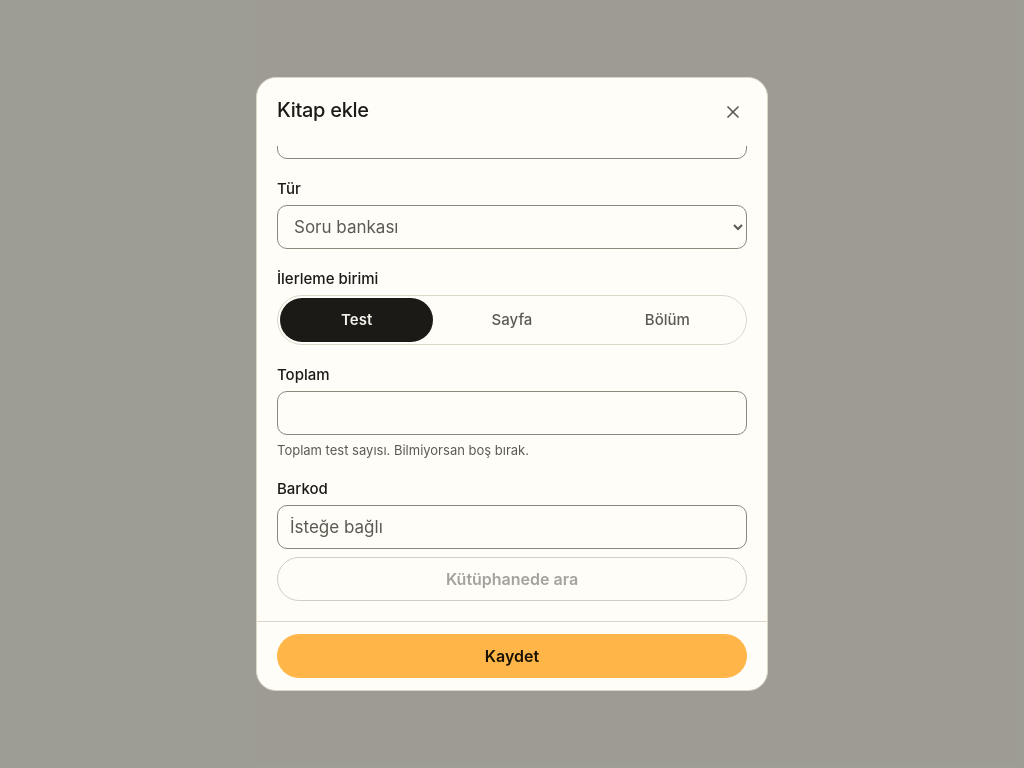
Test: BookFormSheet › barkod › geçersiz barkodda alan hatası gösterir
(page scrolled)
Type "9781234567890" into the field labelled "Barkod" at {"x": 512, "y": 527}, box [277,505,747,549]
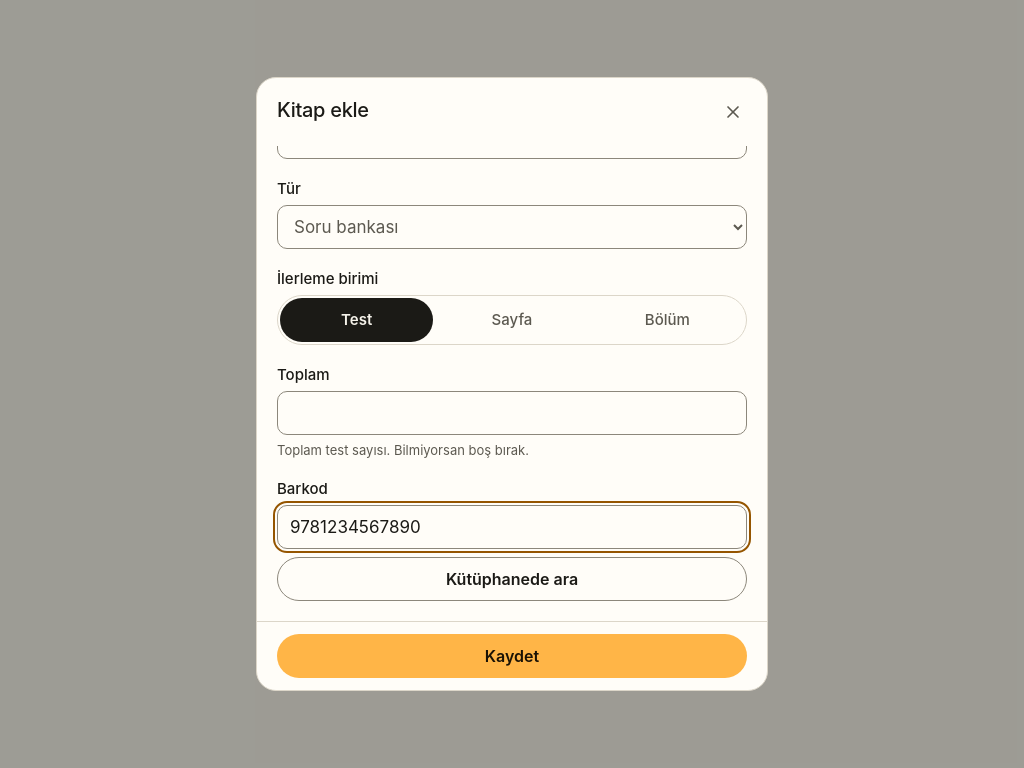
Click the button "Kütüphanede ara" at {"x": 512, "y": 579}, box [277,557,747,601]
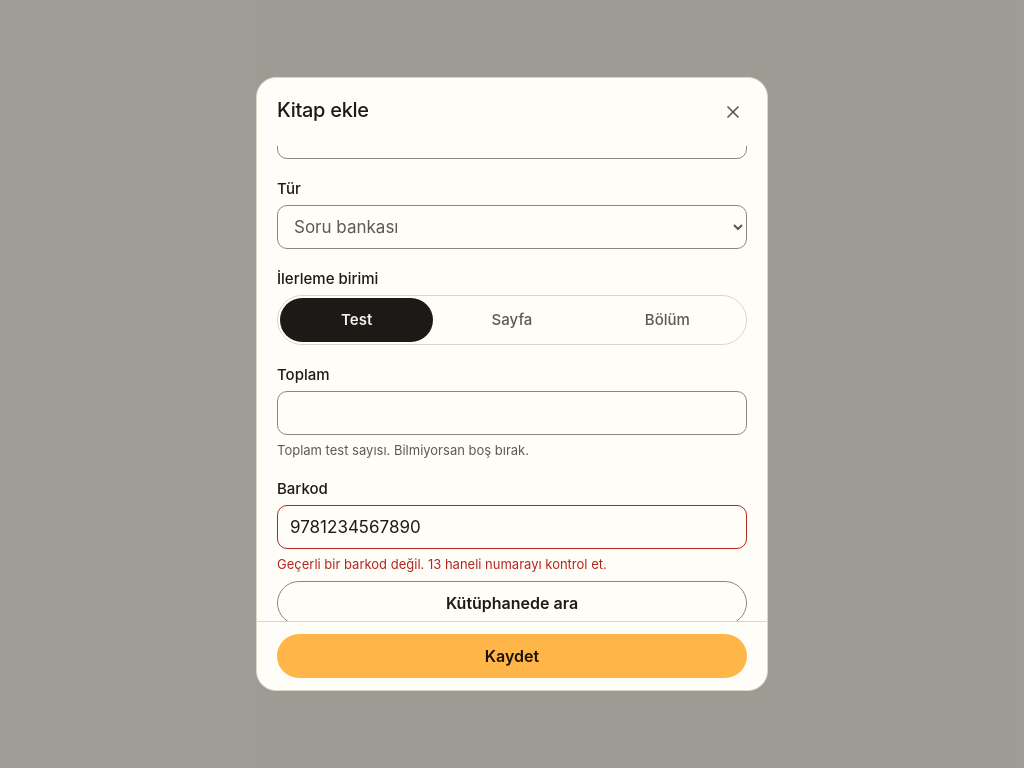
Result: the message reads "Geçerli bir barkod değil. 13 haneli numarayı kontrol et." at [277,556,607,572]
